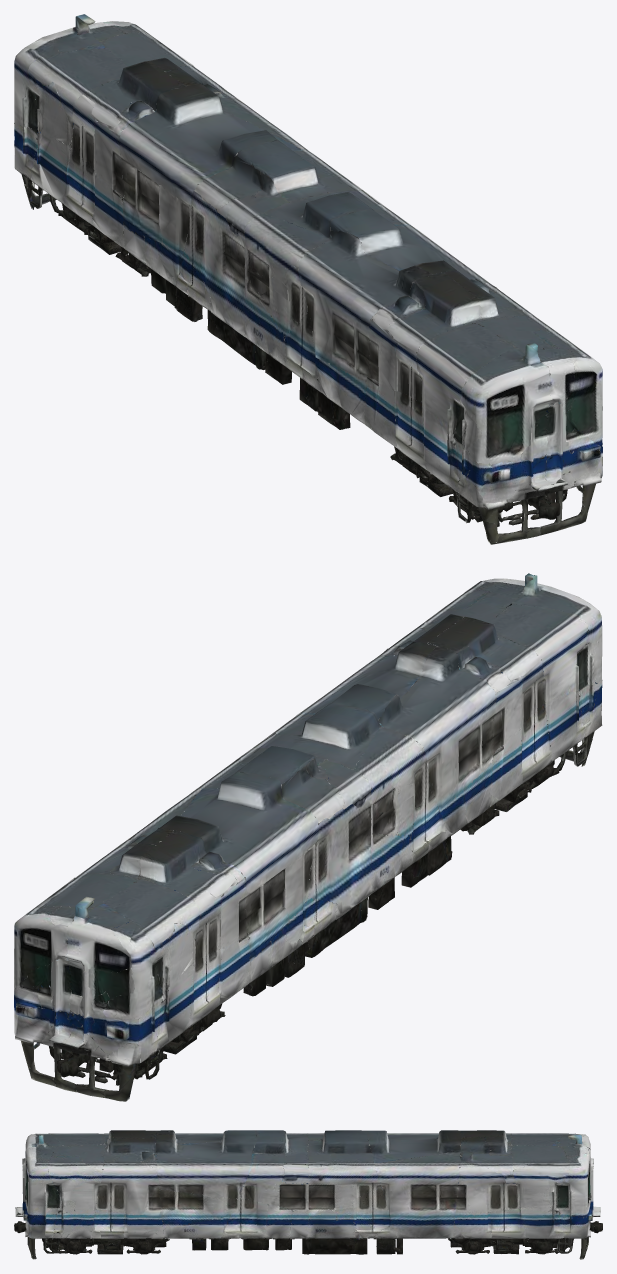
File: tr-jp-emu.glb
The picture shows the model from 3 angles, top to bottom: view 1: azimuth 30°, elevation 25°; view 2: azimuth 150°, elevation 25°; view 3: azimuth 270°, elevation 25°; orthographic projection. The views are drawn at different scales.
Parts seen in each view (by area): view 1: Body; view 2: Body; view 3: Body.
Boxes of the visible parts, x1=… form: Body: x1=14, y1=14, x2=602, y2=544; Body: x1=14, y1=573, x2=602, y2=1101; Body: x1=14, y1=1130, x2=602, y2=1259.
Bounding box in the file's own units: 0.2962 × 0.3993 × 1.9.
Materials: 1 (1 with a texture image).
